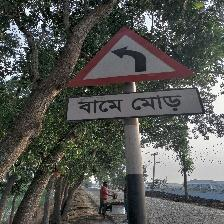Left-Turn: (64, 25, 204, 124)
